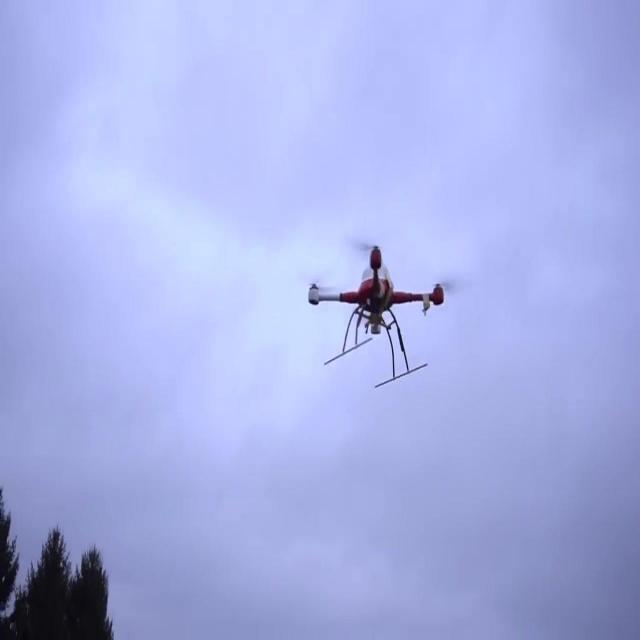UAV: (308, 241, 458, 387)
